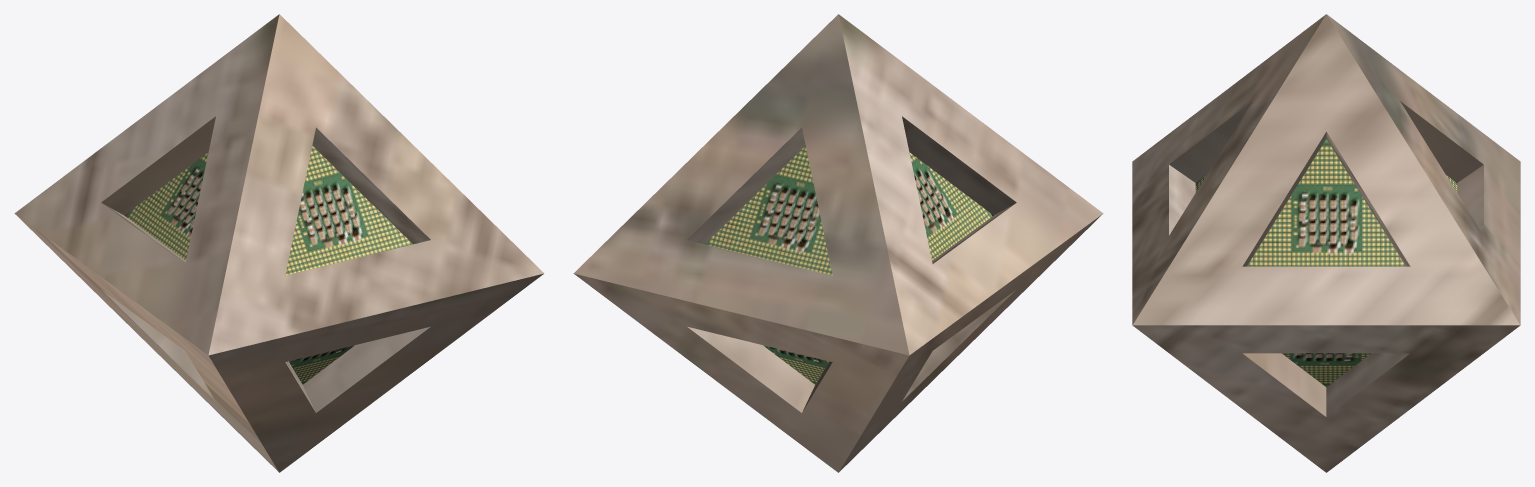
Rendered from squarebipirimid_frame.fbx.
3 renders of one model, left to right at view 1: azimuth 30°, elevation 25°; view 2: azimuth 150°, elevation 25°; view 3: azimuth 270°, elevation 25°, orthographic.
Parts seen in each view (by area): view 1: squarebipirimid_frame; view 2: squarebipirimid_frame; view 3: squarebipirimid_frame.
Part boxes in pixels (bbox=[...]): squarebipirimid_frame: bbox=[14, 14, 544, 472]; squarebipirimid_frame: bbox=[573, 14, 1103, 472]; squarebipirimid_frame: bbox=[1132, 14, 1520, 472].
Size of the model in its own units: 171 by 223 by 171.
